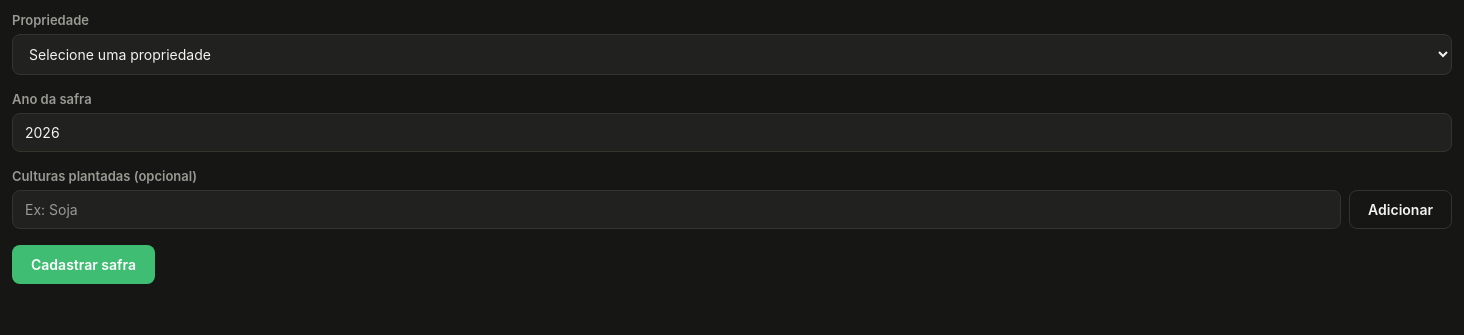
Test case: SafraForm › remove uma cultura da lista antes de enviar
Type "Milho" into the field labelled "Culturas plantadas (opcional)".
click(677, 210); type("Milho")  # box [12,190,1341,229]
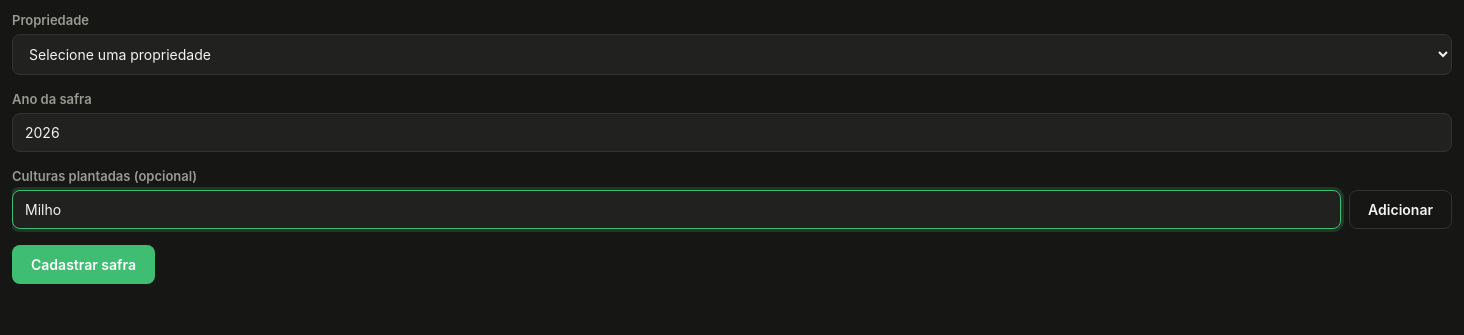
Click the button "Adicionar".
click(1401, 210)  # box [1349,190,1452,229]
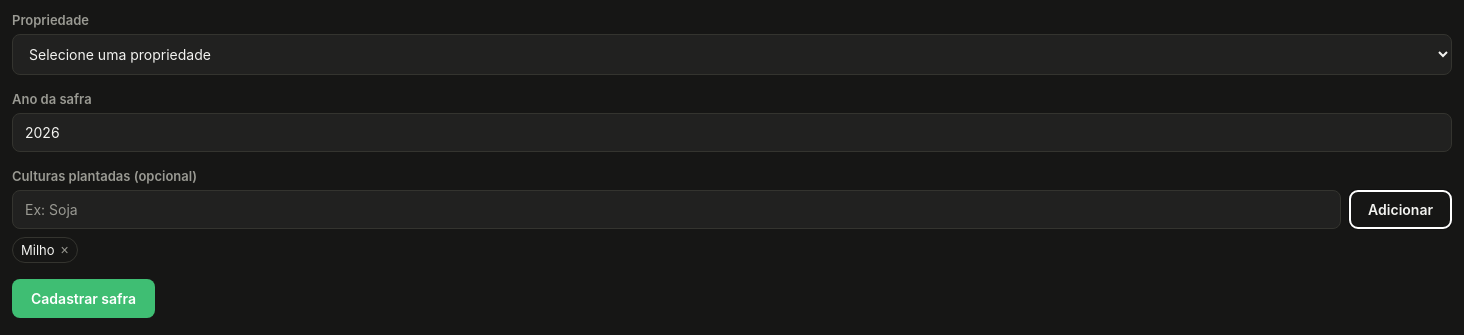
Result: the text "Milho" is shown at [21,242,54,258]
Click the button named "remover milho".
click(65, 250)  # box [60,243,69,257]
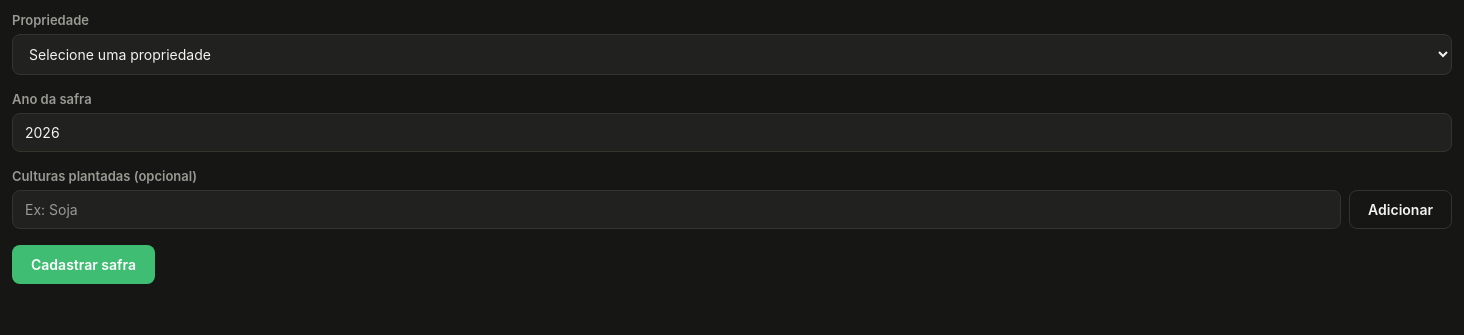
Result: the text "Milho" is gone
